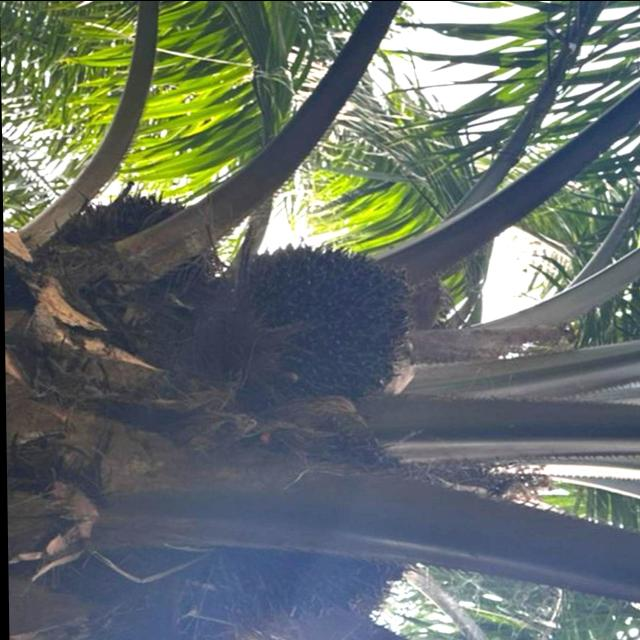unripe: (220, 233, 423, 413)
